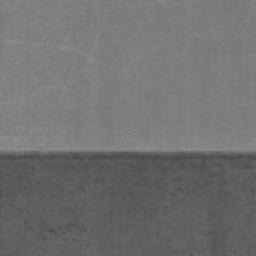Welding line: (0, 148, 256, 160)
